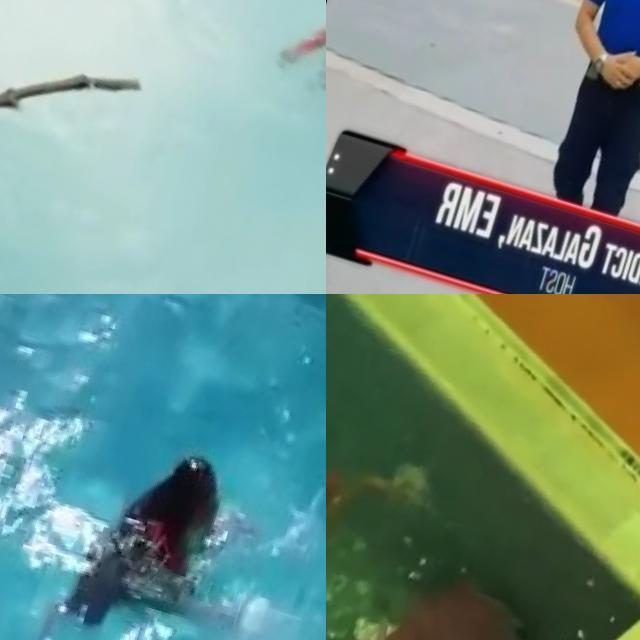Out of Water: (0, 0, 174, 247), (511, 0, 640, 228)
drowning: (31, 409, 276, 640), (326, 409, 436, 600), (265, 0, 326, 143)
